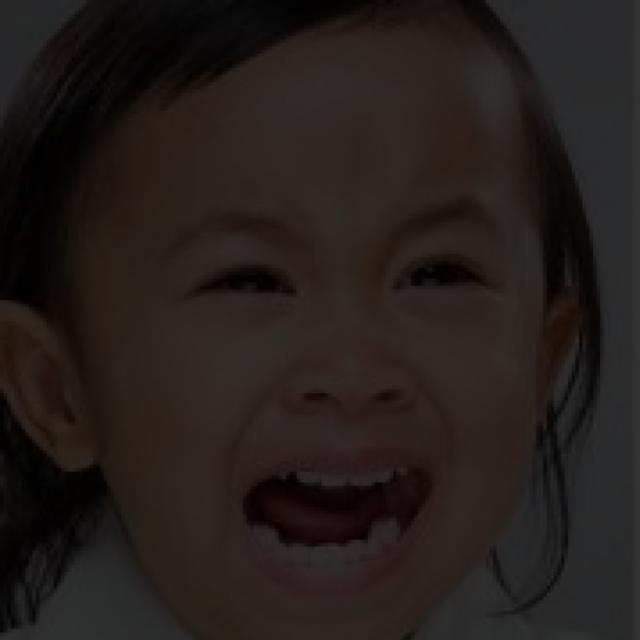sad: (105, 80, 574, 614)
